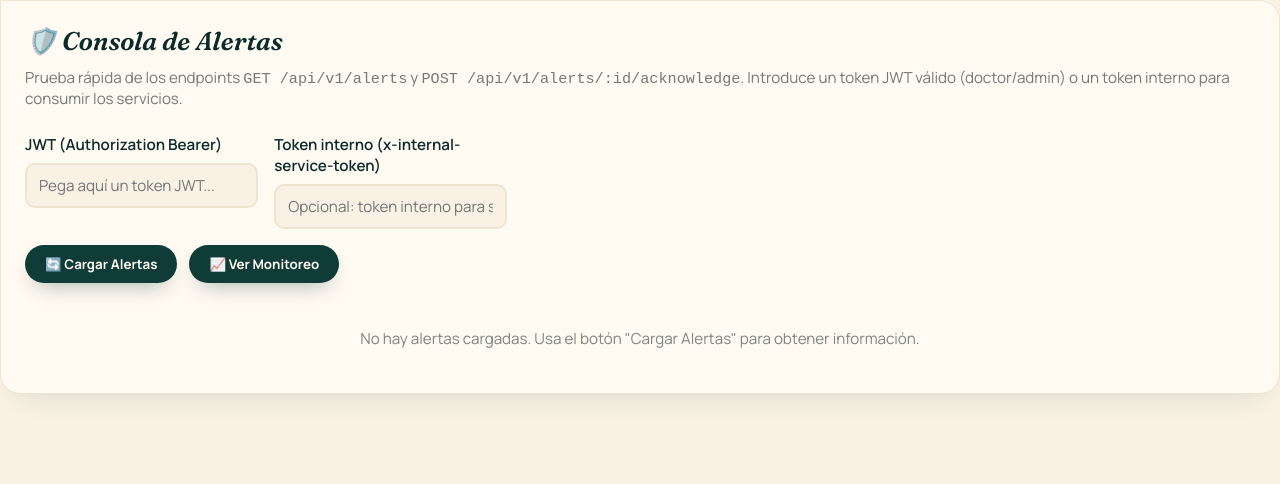
Test: AlertConsole Enhanced Tests › Edge Cases › should handle API errors gracefully
Click the button "🔄 Cargar Alertas" at {"x": 101, "y": 264}, box top-left (25, 245), bottom-right (177, 283)
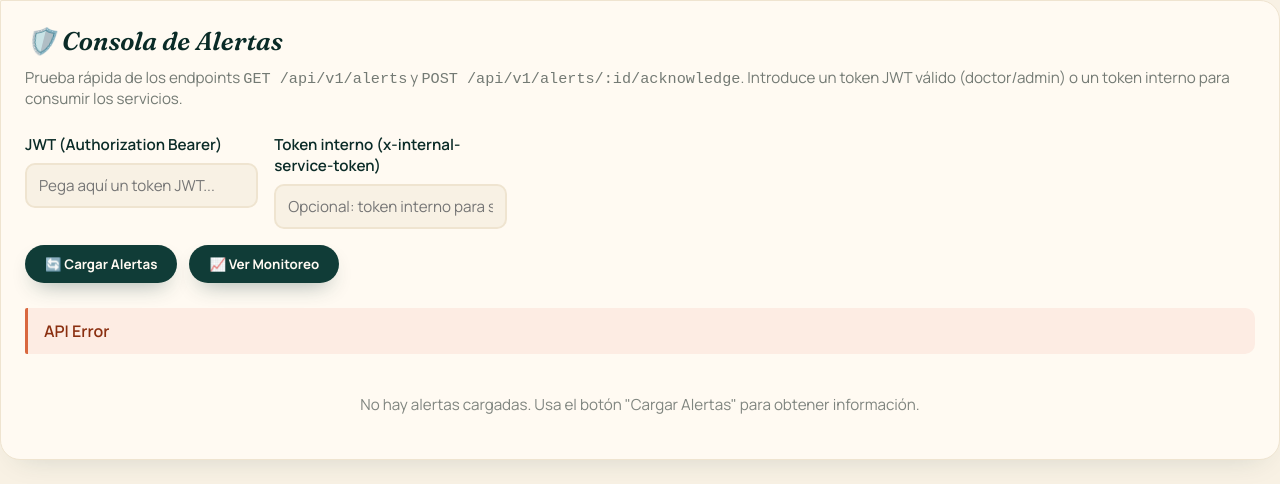
expect the text "API Error" is shown: met, box top-left (25, 308), bottom-right (1255, 354)
